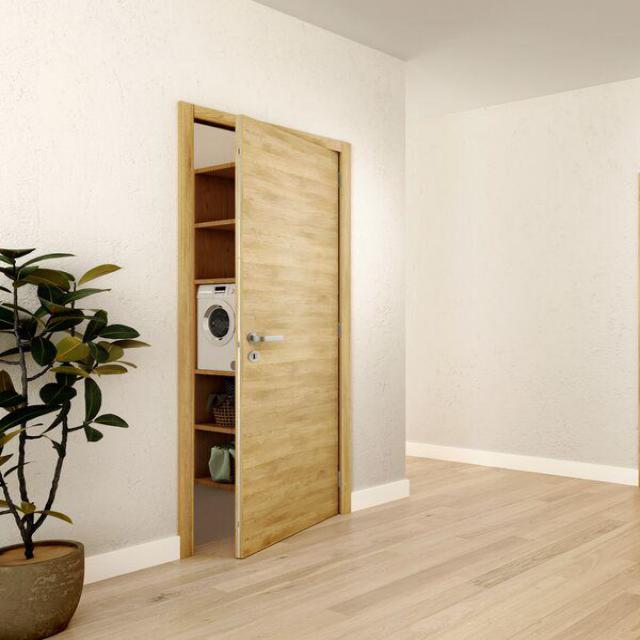semi-open: (162, 94, 359, 570)
